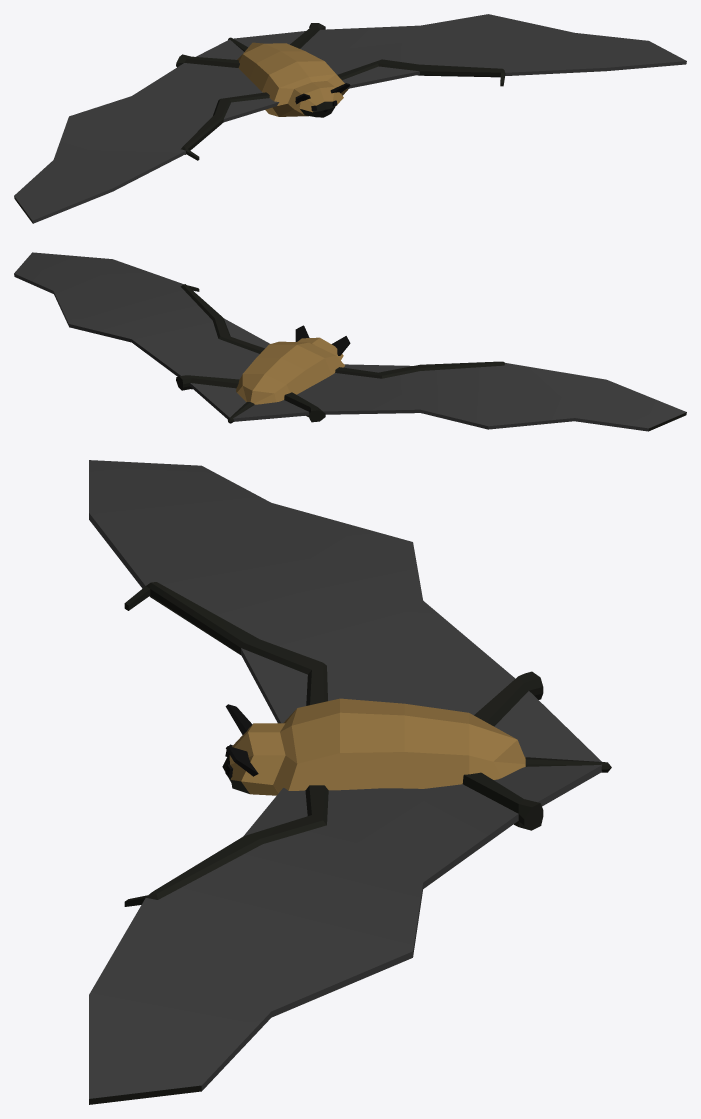
File: Mesh_Bat.obj
3 renders of one model, top to bottom at view 1: azimuth 30°, elevation 25°; view 2: azimuth 150°, elevation 25°; view 3: azimuth 270°, elevation 25°, orthographic. The views are drawn at different scales.
Visible parts, largest first — view 1: Geo_Bat; view 2: Geo_Bat; view 3: Geo_Bat.
Boxes of the visible parts, x1,y1,x2,y2 form: Geo_Bat: (14,14,686,223); Geo_Bat: (14,252,686,431); Geo_Bat: (89,460,611,1104).
Size of the model in its own units: 162 by 12.35 by 56.06.
1 material, 1 textured.
